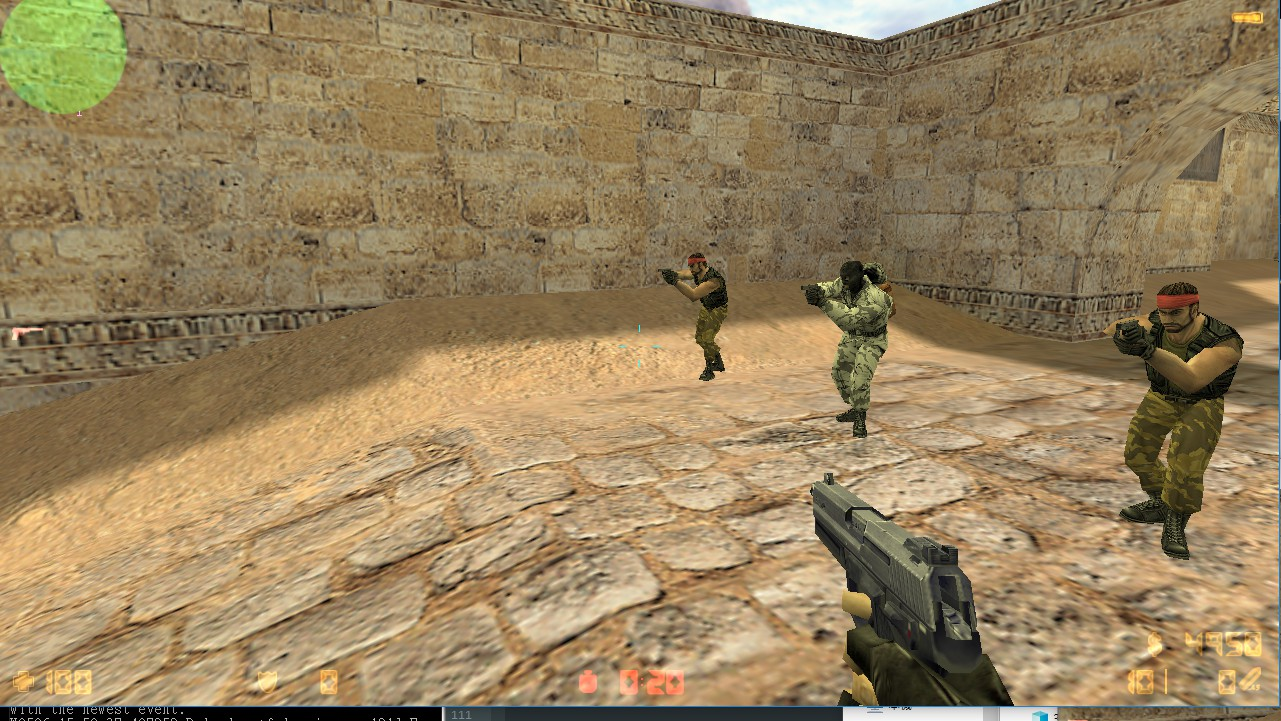person: (1109, 268, 1230, 567), (815, 242, 895, 447), (669, 243, 738, 388)
